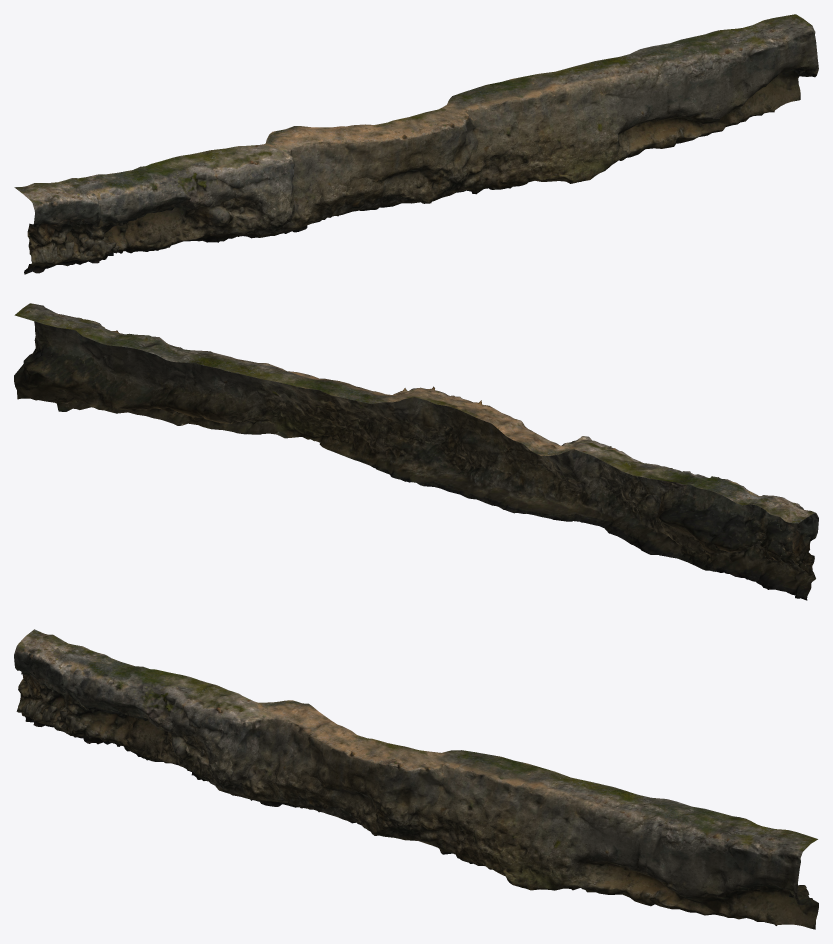
File: cliff_c.jpg-CPs_Msub.glb
The picture shows the model from 3 angles, top to bottom: view 1: azimuth 30°, elevation 25°; view 2: azimuth 150°, elevation 25°; view 3: azimuth 330°, elevation 25°; orthographic projection. The views are drawn at different scales.
Parts seen in each view (by area): view 1: coastal_cliff_01; view 2: coastal_cliff_01; view 3: coastal_cliff_01.
Part boxes in pixels (<box>): coastal_cliff_01: <box>14,14,818,274</box>; coastal_cliff_01: <box>14,303,818,600</box>; coastal_cliff_01: <box>14,629,818,929</box>.
Size of the model in its own units: 91.94 by 10.26 by 10.97.
1 material, 1 textured.
